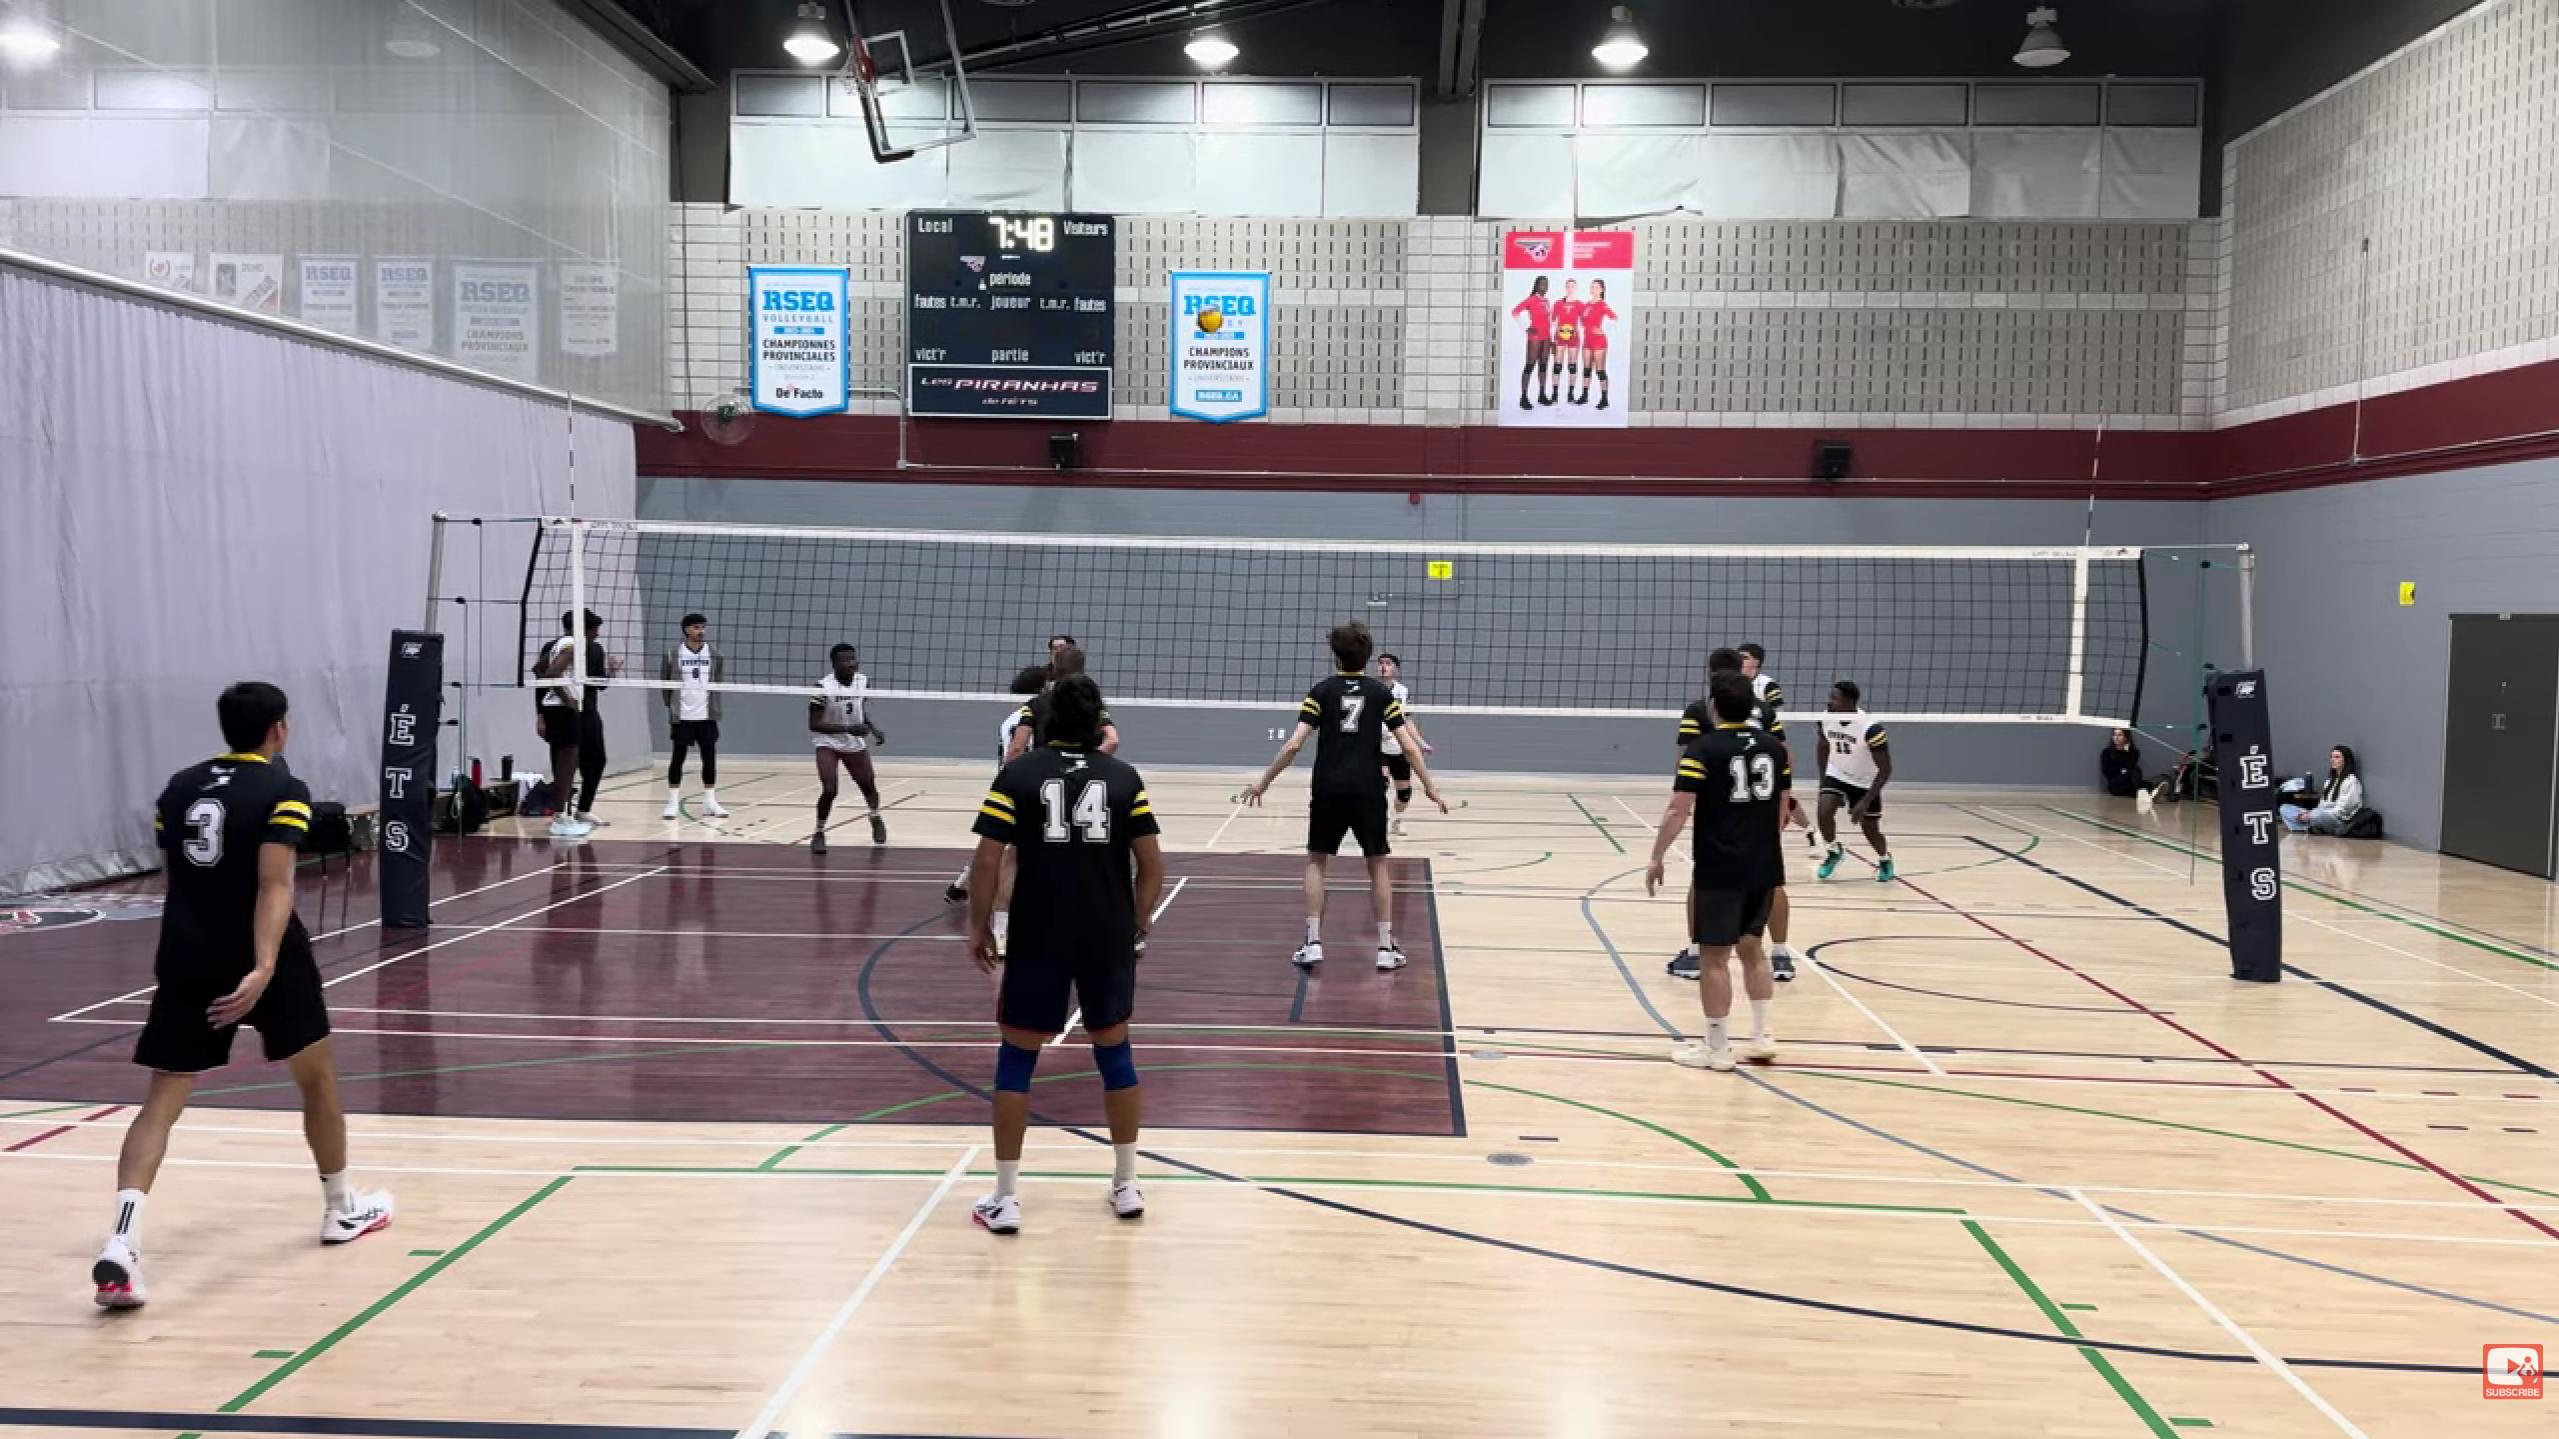Ball: (1193, 302, 1227, 336)
